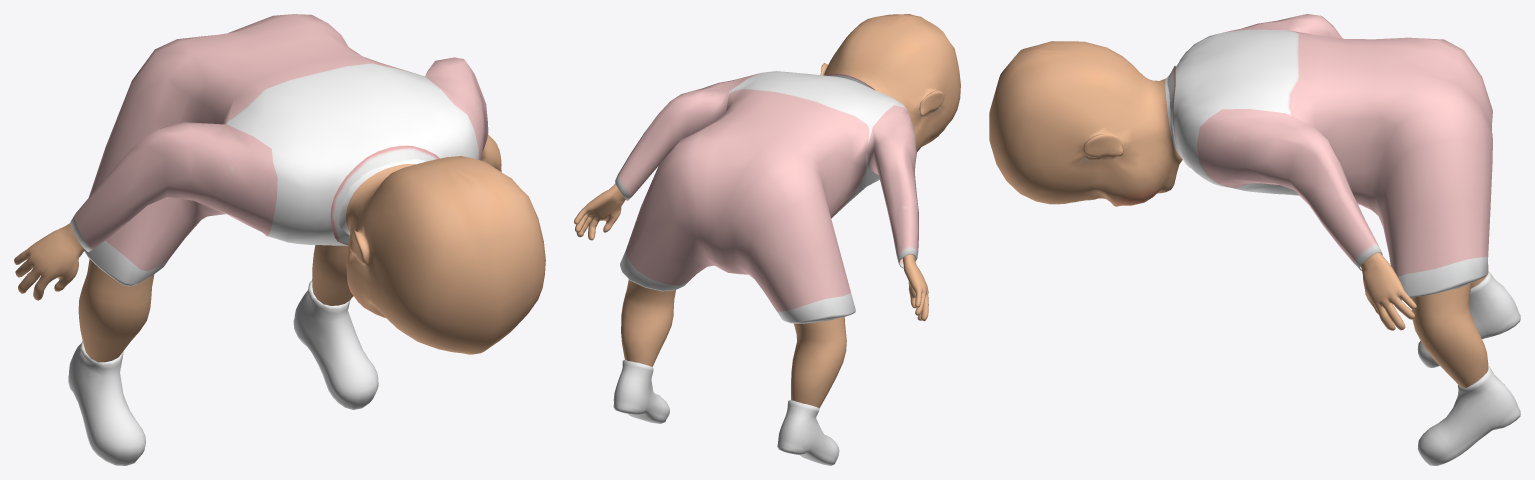
The model's file is infant_mannequin.obj.
3 views of the same model, side by side, from view 1: azimuth 30°, elevation 25°; view 2: azimuth 150°, elevation 25°; view 3: azimuth 270°, elevation 25° (orthographic). The views are drawn at different scales.
Bounding box in the file's own units: 0.1618 × 0.1359 × 0.18.
Materials: 1 (1 with a texture image).
